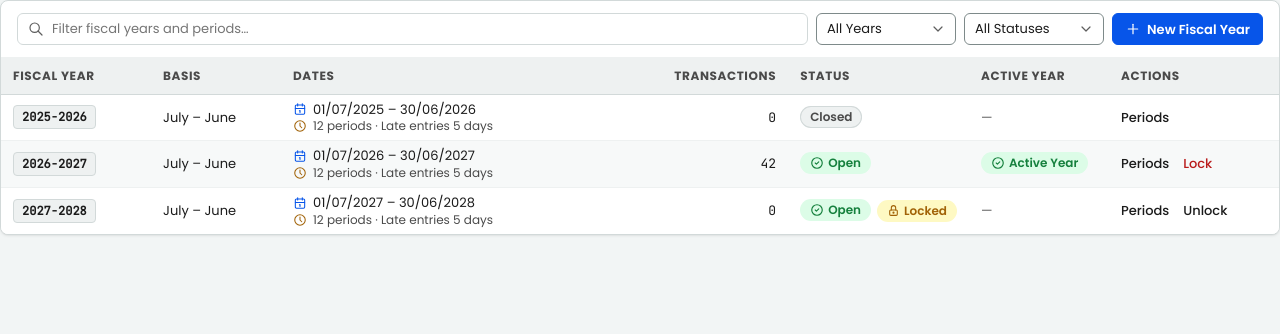
Scenario: FiscalYearsTable › shows and hides the periods of a year
The width and height of the screenshot is (1280, 334).
What coordinates should you click on to do the following:
click the button "Periods" in the row of "2026-2027"
I would click on:
 (1145, 164)
Its box is [1121, 154, 1169, 174].
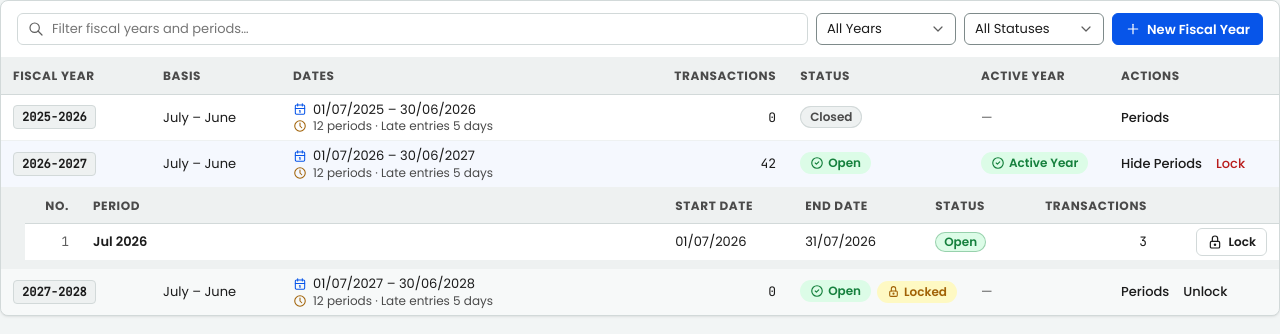
Expected: the button "Hide Periods" is expanded
Expected: the text "Jul 2026" is shown, [81, 224, 663, 260]
What coordinates should you click on to do the following:
click the button "Hide Periods"
I would click on:
 (1162, 164)
Its box is [1121, 154, 1202, 174].
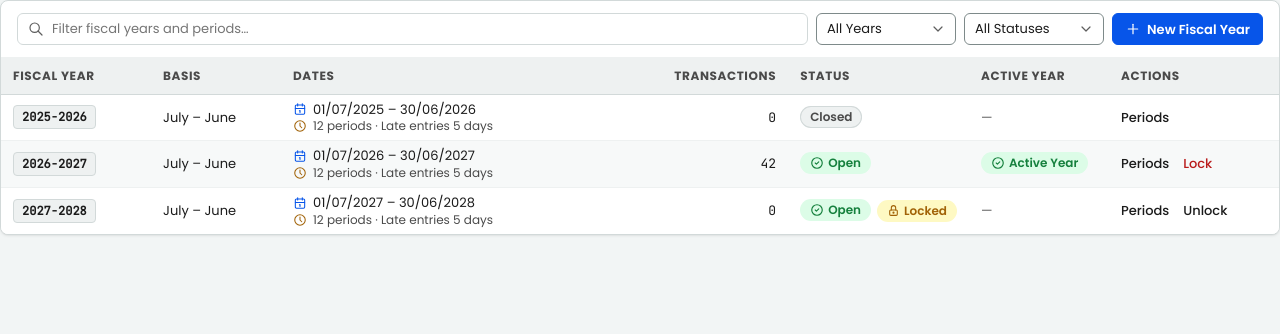
Expected: the text "Jul 2026" is gone
